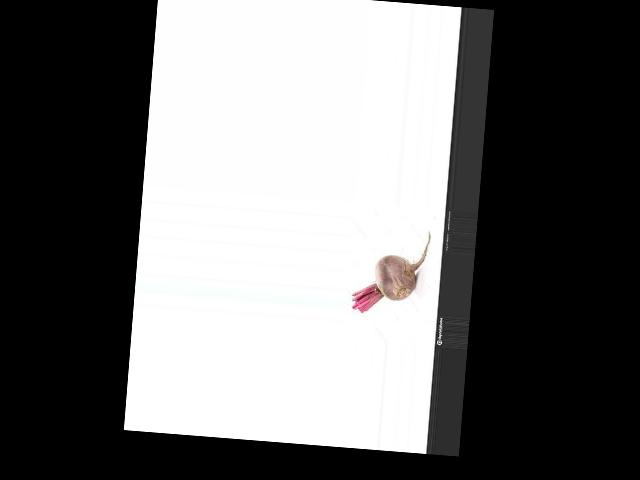beet: (351, 225, 431, 317)
